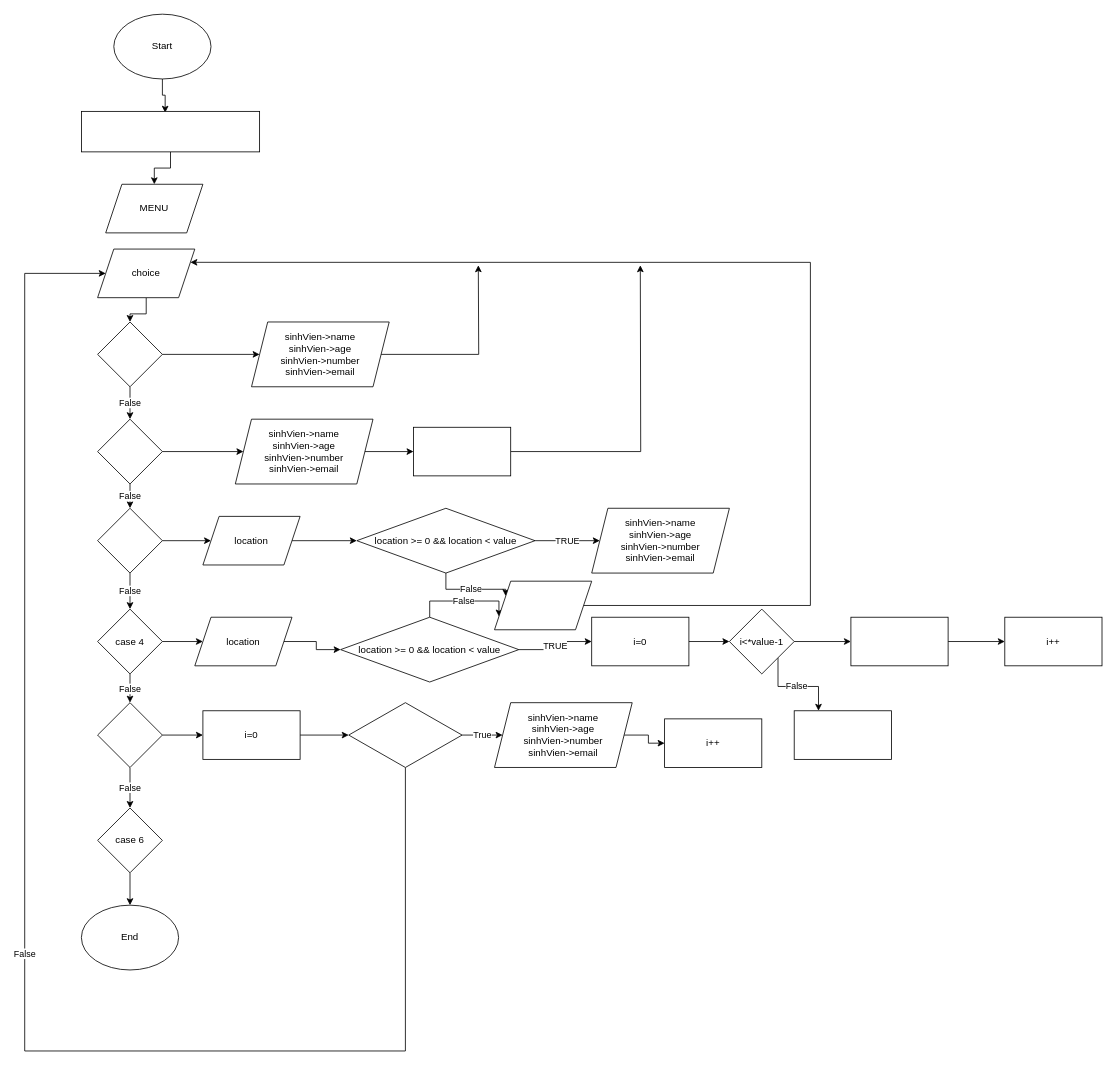
The diagram is 1116 pixels wide and 1072 high, and some of its shapes have lost their labels. The centre of each missing label's shape, as x and y in pixels:
"(*value)--" goes at [842,734].
"case 1" goes at [129,354].
"case 2" goes at [129,451].
"case 3" goes at [129,540].
"case 5" goes at [129,734].
"dsSinhVien[i] = dsSinhVien[i + 1]" goes at [899,641].
"i<value" goes at [405,734].
"Khong hop le" goes at [543,605].
"name[50], age, number, email[100], value =0, location" goes at [170,131].
"value++" goes at [462,451].
